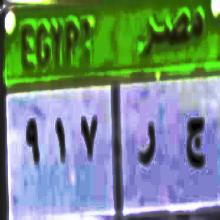1: (52, 119, 71, 166)
7: (79, 116, 104, 163)
9: (23, 117, 42, 171)
jeem: (180, 112, 207, 177)
raa: (138, 120, 157, 175)
